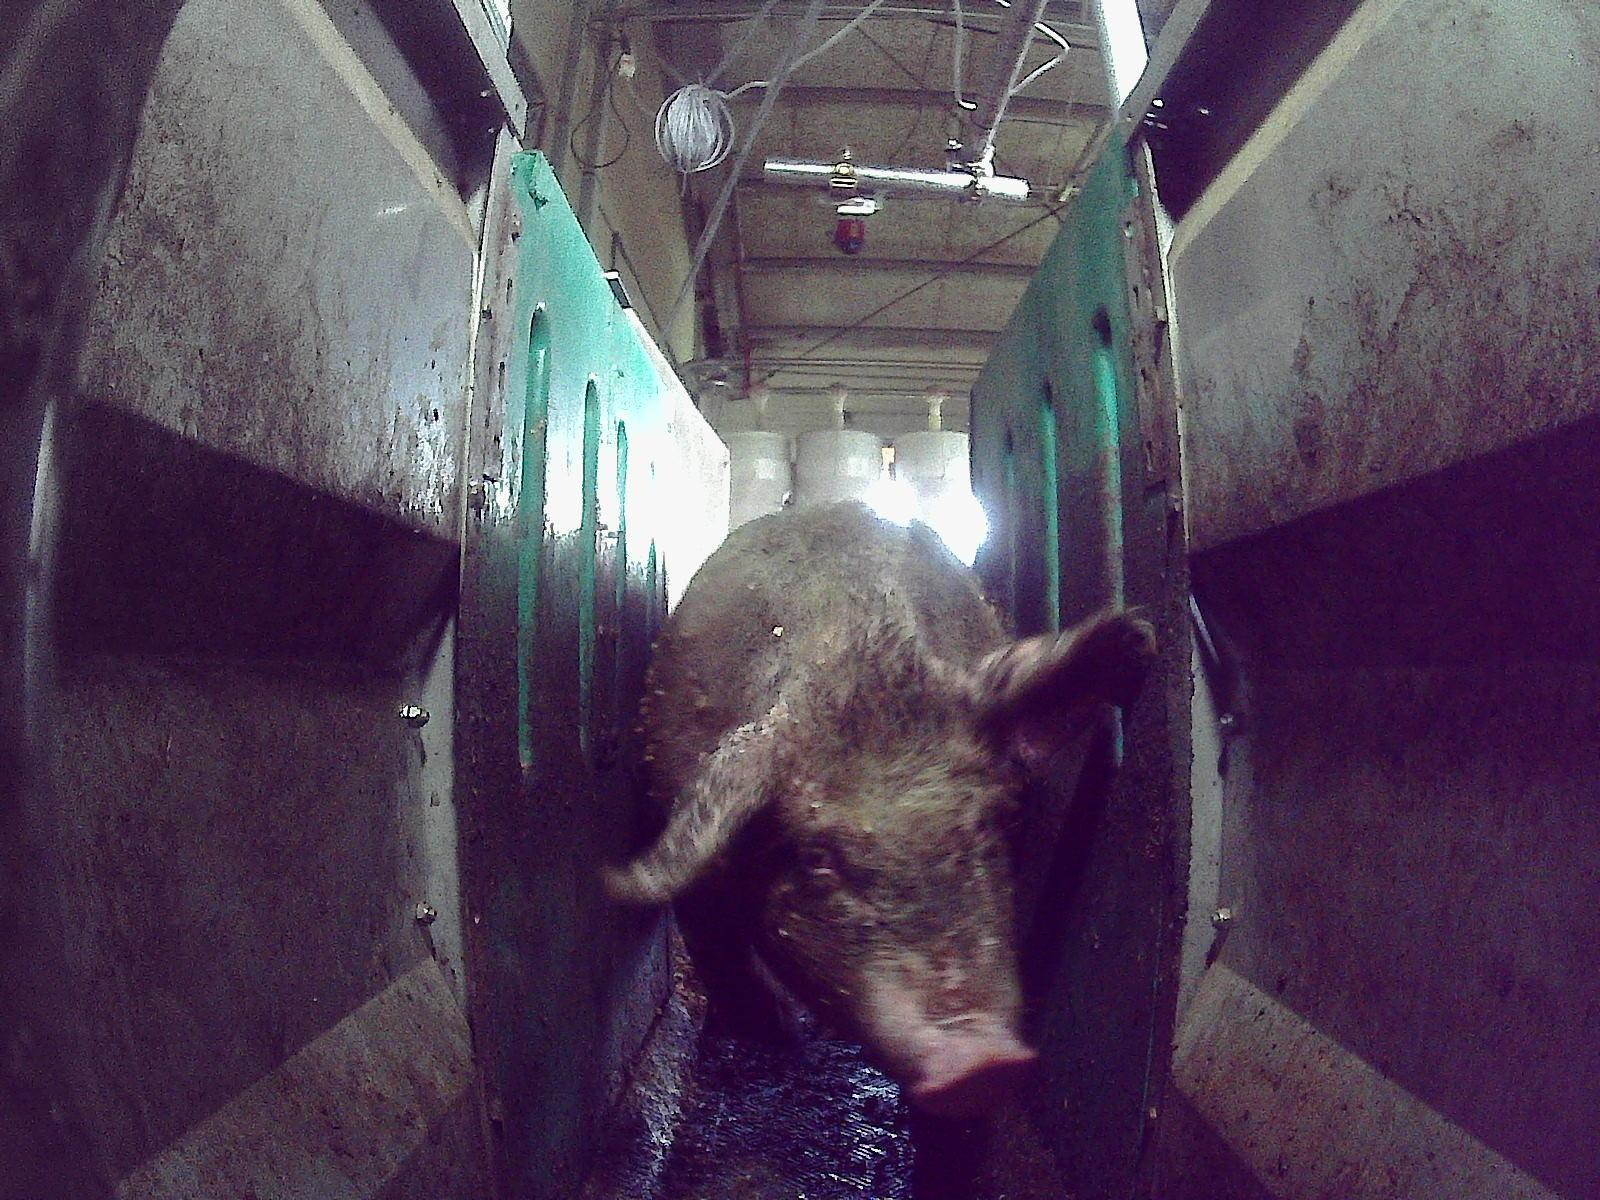Face: (737, 644, 1036, 1122)
